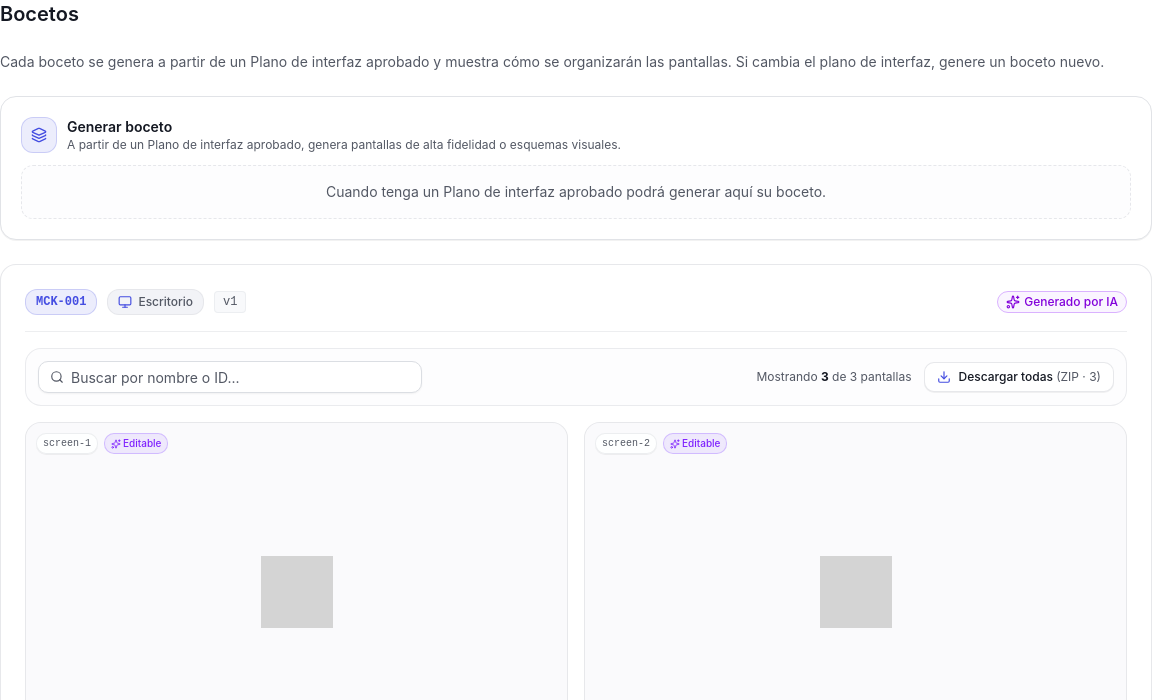
Test: MockupsPage screen gallery › shows empty search state when no screen matches query
Type "InexistenteXYZ" into the search field named "Buscar pantalla en el boceto" at (230, 377), box [38, 361, 422, 393]
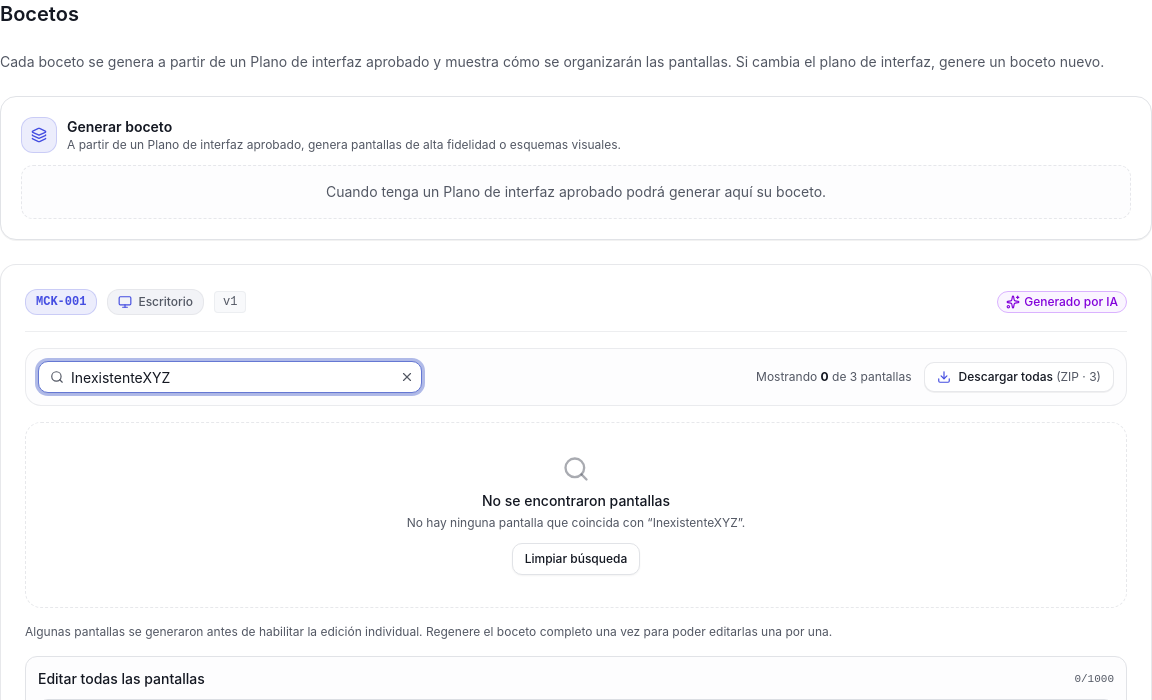
Check: the text "No se encontraron pantallas" is shown, box [482, 491, 670, 511]
Check: the text "No hay ninguna pantalla que coincida con “InexistenteXYZ”." is shown, box [407, 515, 745, 531]
Click the button "Limpiar búsqueda" at (576, 559), box [512, 543, 640, 575]
(page scrolled)
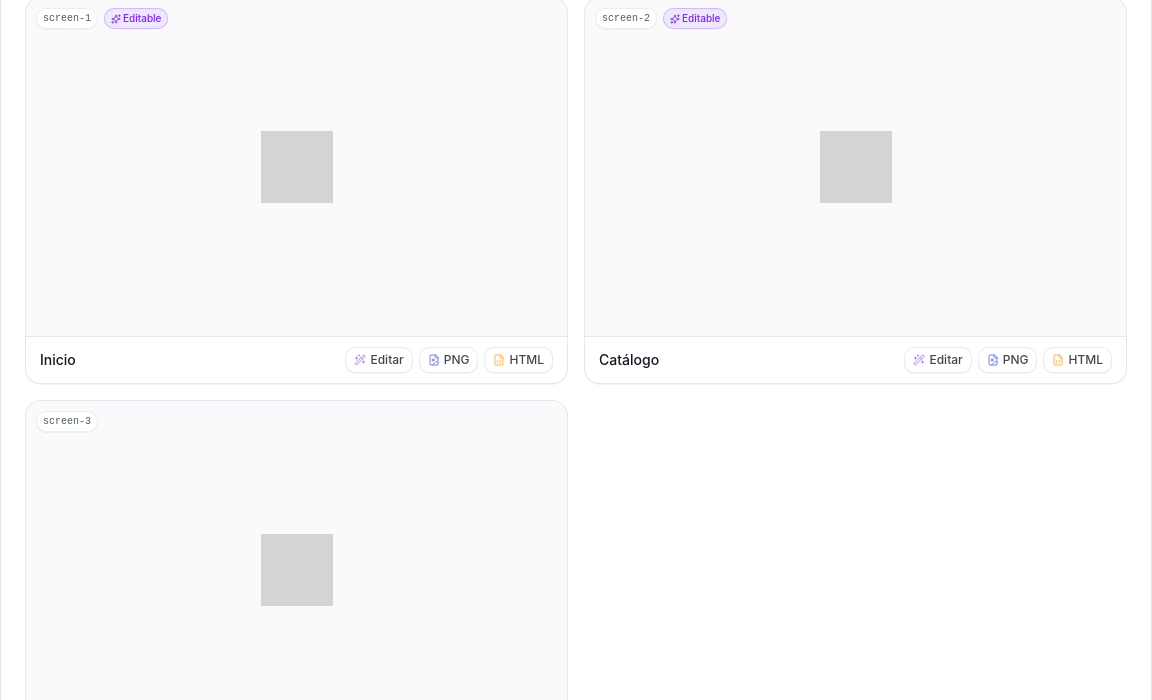
Check: the text "Inicio" is shown, box [40, 350, 76, 370]
